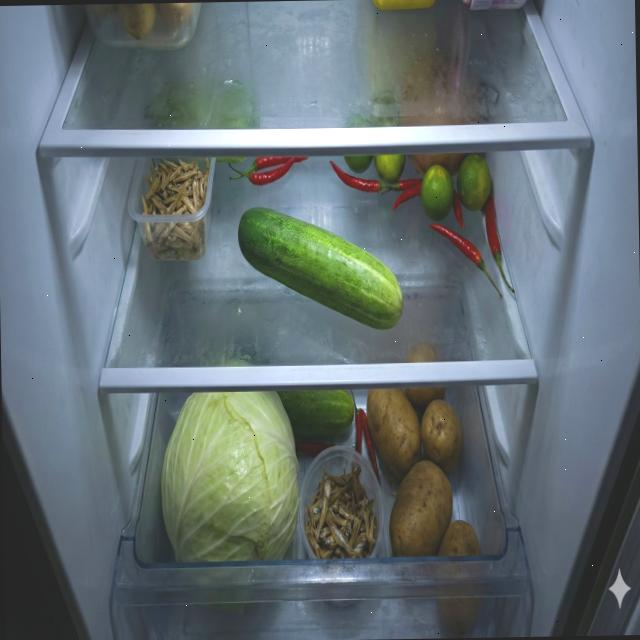anchovies: (303, 458, 378, 560), (140, 157, 212, 262)
cabbage: (158, 388, 301, 566)
chili: (426, 182, 516, 303), (328, 156, 422, 214), (228, 156, 310, 187)
cucumber: (238, 205, 405, 336), (276, 388, 354, 434)
lime: (455, 153, 491, 212), (421, 164, 454, 223), (344, 154, 406, 183)
potato: (366, 386, 482, 558)
